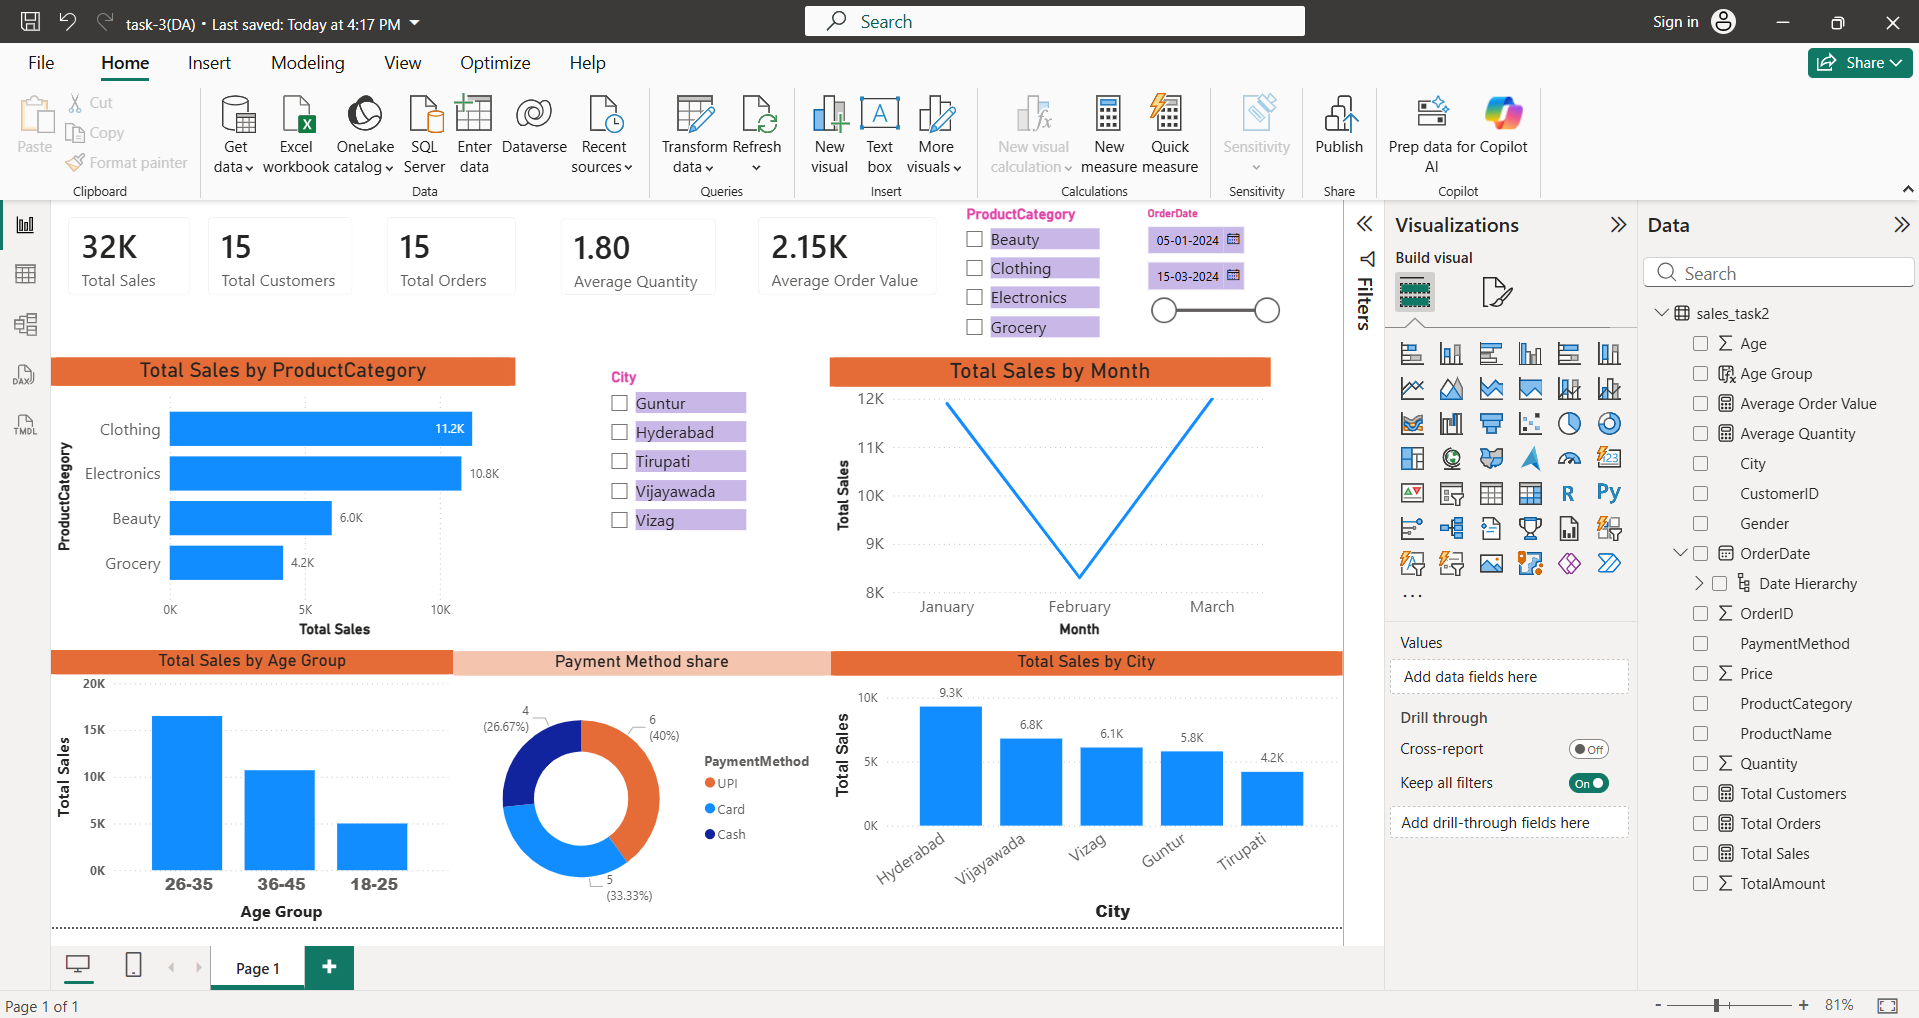

The dashboard page shown, as its layout file describes it:
{"tool":"powerbi","page":{"name":"Page 1","canvas":[1280,720],"ordinal":0},"visuals":[{"type":"cardVisual","fields":{"Data":["sales_task2.Total Sales"]},"box":[0,0,155.8,111.1],"z":0},{"type":"cardVisual","fields":{"Data":["sales_task2.Total Orders"]},"box":[316.2,0,162.5,111.2],"z":1},{"type":"cardVisual","fields":{"Data":["sales_task2.Total Customers"]},"box":[138.8,0,177.5,111.2],"z":2},{"type":"cardVisual","fields":{"Data":["sales_task2.Average Order Value"]},"box":[683.3,0,211.7,111.7],"z":3},{"type":"cardVisual","fields":{"Data":["sales_task2.Average Quantity"]},"box":[488.3,1.7,188.3,110],"z":4},{"type":"clusteredBarChart","fields":{"Category":["sales_task2.ProductCategory"],"Y":["sales_task2.Total Sales"]},"box":[0,156.5,459.8,282.5],"z":5},{"type":"lineChart","fields":{"Category":["sales_task2.OrderDate.Variation.Date Hierarchy.Month"],"Y":["sales_task2.Total Sales"]},"box":[771.6,156.5,436.6,282.5],"z":6},{"type":"clusteredColumnChart","fields":{"Category":["sales_task2.City"],"Y":["sales_task2.Total Sales"]},"box":[771.7,446.7,508.3,273.3],"z":7},{"type":"donutChart","title":"Payment Method share","fields":{"Category":["sales_task2.PaymentMethod"],"Y":["CountNonNull(sales_task2.OrderID)"]},"box":[398.3,446.7,373.3,273.3],"z":8},{"type":"clusteredColumnChart","fields":{"Category":["sales_task2.Age Group"],"Y":["sales_task2.Total Sales"]},"box":[0,446.3,398.6,273.9],"z":9},{"type":"slicer","fields":{"Values":["sales_task2.OrderDate"]},"box":[1073.6,1.2,151.6,139.4],"z":10},{"type":"slicer","fields":{"Values":["sales_task2.City"]},"box":[541.7,162.6,151.6,194.4],"z":11},{"type":"slicer","fields":{"Values":["sales_task2.ProductCategory"]},"box":[893.3,0,150,155],"z":12}]}

Visuals, with their boxes on the page's 1280x720 design canvas (x1, y1, x2, y2). These are canvas units, not pixel positions in the 1919x1018 screenshot, which may show the page scaled, cropped or inside an application window:
cardVisual - sales_task2.Total Sales: rect(0, 0, 156, 111)
cardVisual - sales_task2.Total Orders: rect(316, 0, 479, 111)
cardVisual - sales_task2.Total Customers: rect(139, 0, 316, 111)
cardVisual - sales_task2.Average Order Value: rect(683, 0, 895, 112)
cardVisual - sales_task2.Average Quantity: rect(488, 2, 677, 112)
clusteredBarChart - sales_task2.ProductCategory x sales_task2.Total Sales: rect(0, 156, 460, 439)
lineChart - sales_task2.OrderDate.Variation.Date Hierarchy.Month x sales_task2.Total Sales: rect(772, 156, 1208, 439)
clusteredColumnChart - sales_task2.City x sales_task2.Total Sales: rect(772, 447, 1280, 720)
"Payment Method share" donutChart: rect(398, 447, 772, 720)
clusteredColumnChart - sales_task2.Age Group x sales_task2.Total Sales: rect(0, 446, 399, 720)
slicer - sales_task2.OrderDate: rect(1074, 1, 1225, 141)
slicer - sales_task2.City: rect(542, 163, 693, 357)
slicer - sales_task2.ProductCategory: rect(893, 0, 1043, 155)
